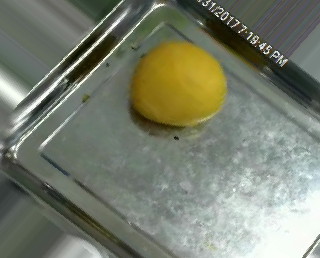Mango: (126, 40, 236, 128)
